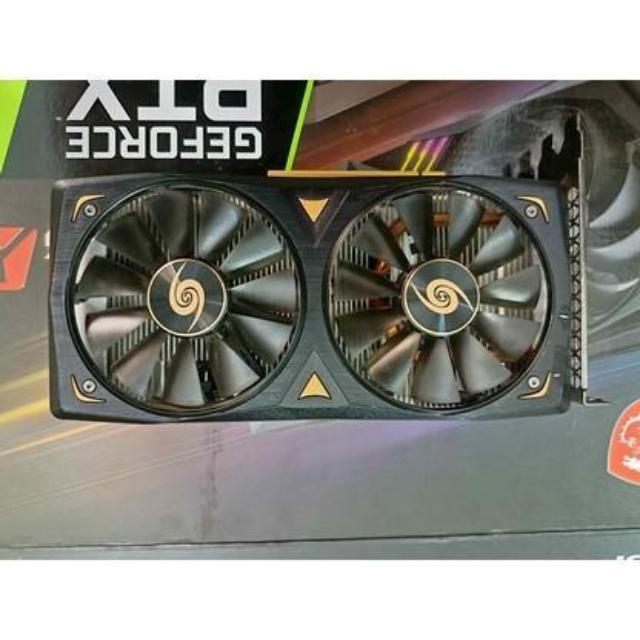GPU: (44, 158, 588, 426)
